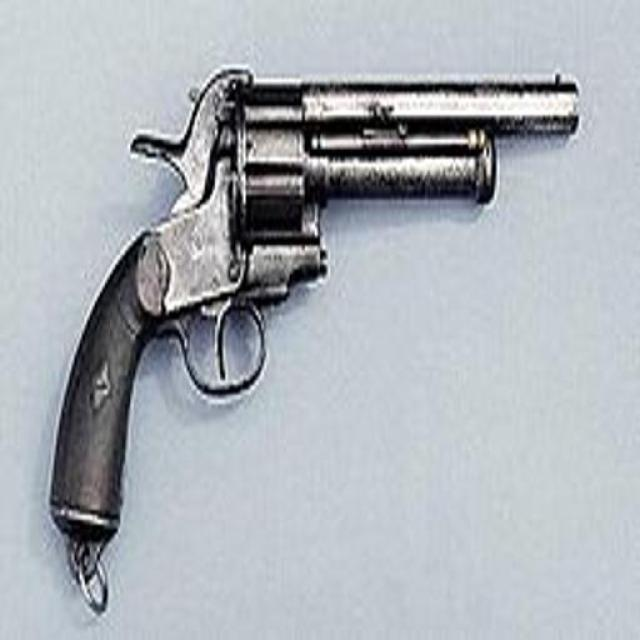pistol: (40, 64, 580, 543)
